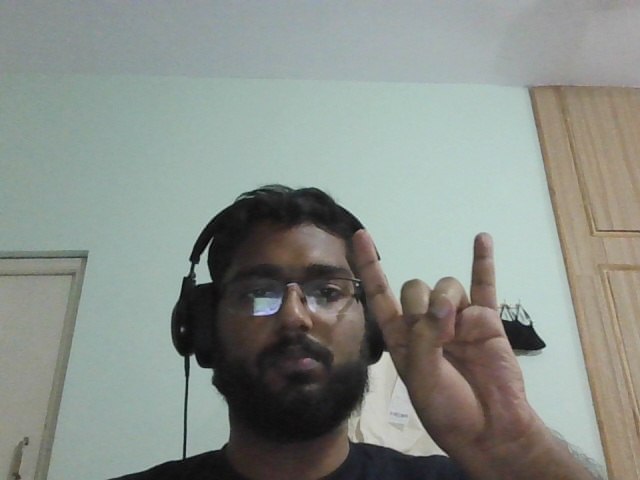I Love You: (334, 214, 576, 459)
